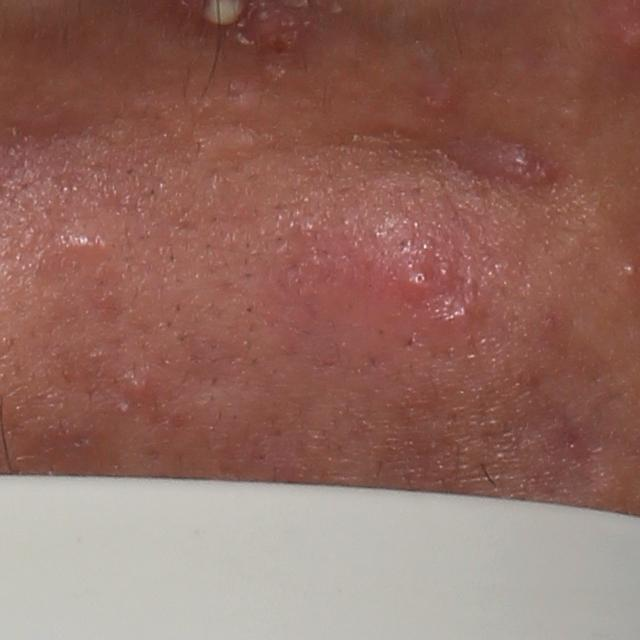papule: (478, 139, 558, 188), (58, 215, 115, 267), (394, 256, 439, 302), (425, 294, 469, 340), (418, 78, 460, 119), (126, 369, 155, 403)
